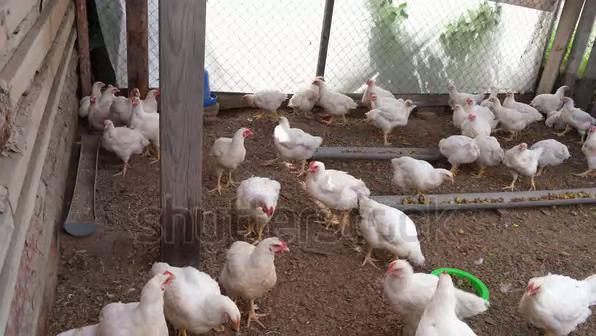Pollos: (356, 197, 432, 259), (522, 273, 596, 336), (231, 234, 291, 289), (125, 269, 177, 325), (426, 271, 464, 336), (187, 291, 242, 333), (384, 257, 419, 313), (368, 97, 416, 135), (235, 176, 275, 220), (306, 162, 351, 200), (312, 77, 354, 117), (488, 96, 533, 133), (558, 97, 595, 141), (389, 160, 449, 186), (274, 116, 310, 153), (533, 137, 569, 172), (221, 126, 254, 163), (507, 141, 539, 176), (242, 85, 285, 111), (438, 135, 474, 165), (533, 84, 572, 111), (472, 135, 499, 170), (363, 75, 400, 99), (448, 84, 487, 105), (584, 123, 596, 180), (462, 111, 487, 136), (103, 120, 129, 144), (83, 92, 108, 116), (127, 97, 149, 124), (90, 78, 107, 94), (104, 82, 118, 100)
